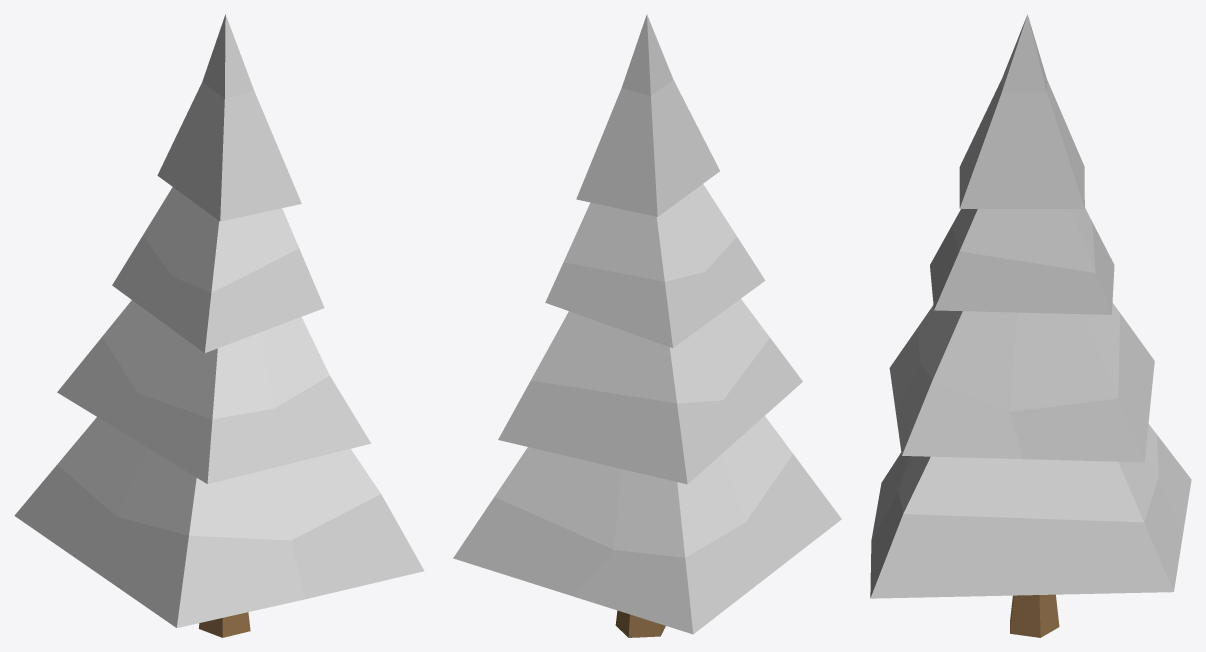
File: tree-spruce-snow01.fbx
The picture shows the model from 3 angles, left to right: view 1: azimuth 30°, elevation 25°; view 2: azimuth 150°, elevation 25°; view 3: azimuth 270°, elevation 25°; orthographic projection.
Parts seen in each view (by area): view 1: tree-spruce-snow_01; view 2: tree-spruce-snow_01; view 3: tree-spruce-snow_01.
Boxes of the visible parts, left/top/right/bottom form: tree-spruce-snow_01: left=14, top=14, right=424, bottom=637; tree-spruce-snow_01: left=453, top=14, right=841, bottom=637; tree-spruce-snow_01: left=870, top=14, right=1191, bottom=637.
Bounding box in the file's own units: 2.06 × 2.31 × 4.85.
